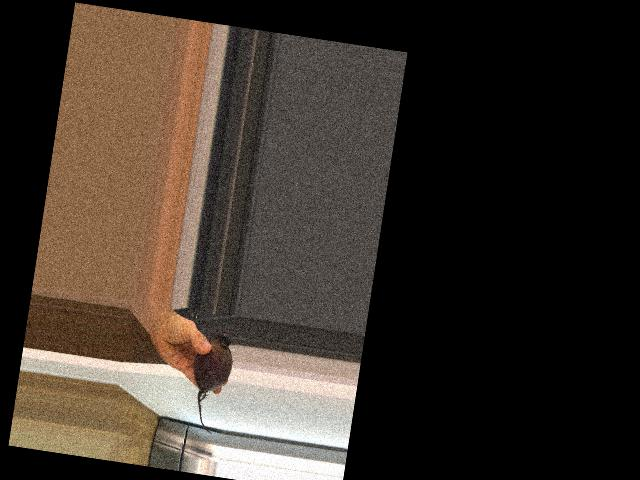beet: (184, 326, 237, 435)
